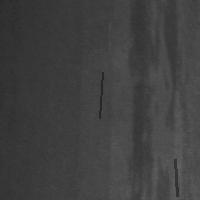inclusion: (128, 1, 179, 198), (97, 70, 104, 120), (173, 157, 179, 198)
